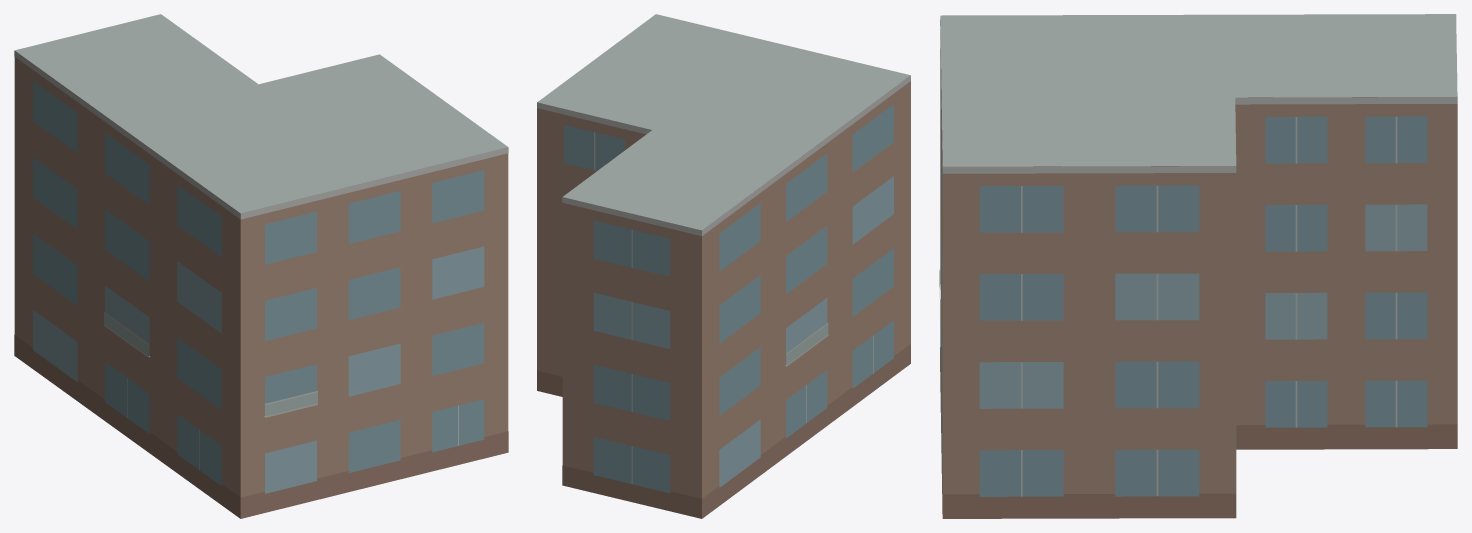
Rendered from residential-96d8e6b3-1f2e-4882-a19b-c36b11c89802.glb.
3 views of the same model, side by side, from view 1: azimuth 30°, elevation 25°; view 2: azimuth 150°, elevation 25°; view 3: azimuth 270°, elevation 25° (orthographic). The views are drawn at different scales.
Parts seen in each view (by area): view 1: residential-96d8e6b3-1f2e-4882-a19b-c36b11c89802.tmp; view 2: residential-96d8e6b3-1f2e-4882-a19b-c36b11c89802.tmp; view 3: residential-96d8e6b3-1f2e-4882-a19b-c36b11c89802.tmp.
Boxes of the visible parts, x1,y1,x2,y2 form: residential-96d8e6b3-1f2e-4882-a19b-c36b11c89802.tmp: (14,14,508,518); residential-96d8e6b3-1f2e-4882-a19b-c36b11c89802.tmp: (537,14,910,518); residential-96d8e6b3-1f2e-4882-a19b-c36b11c89802.tmp: (939,14,1457,518).
Size of the model in its own units: 11.35 by 12.2 by 16.28.
